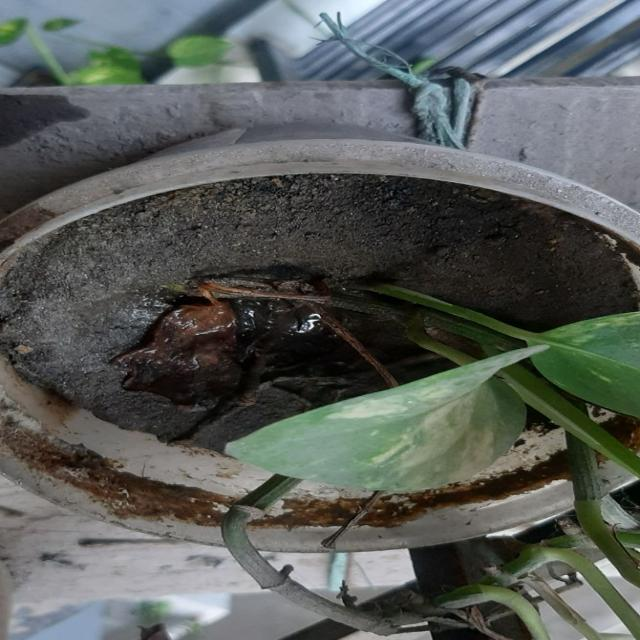Breeding Place: (0, 105, 640, 577)
